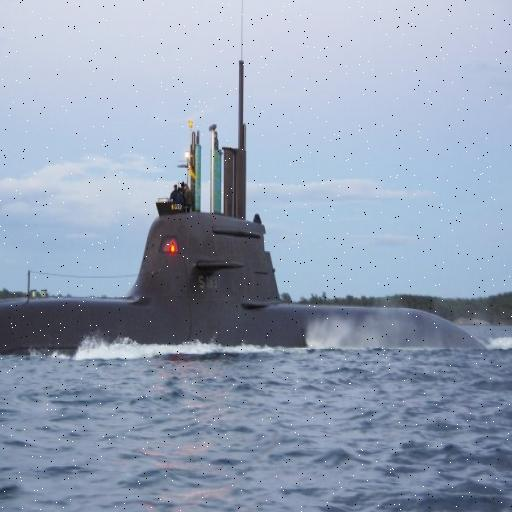submarine: (1, 60, 487, 356)
